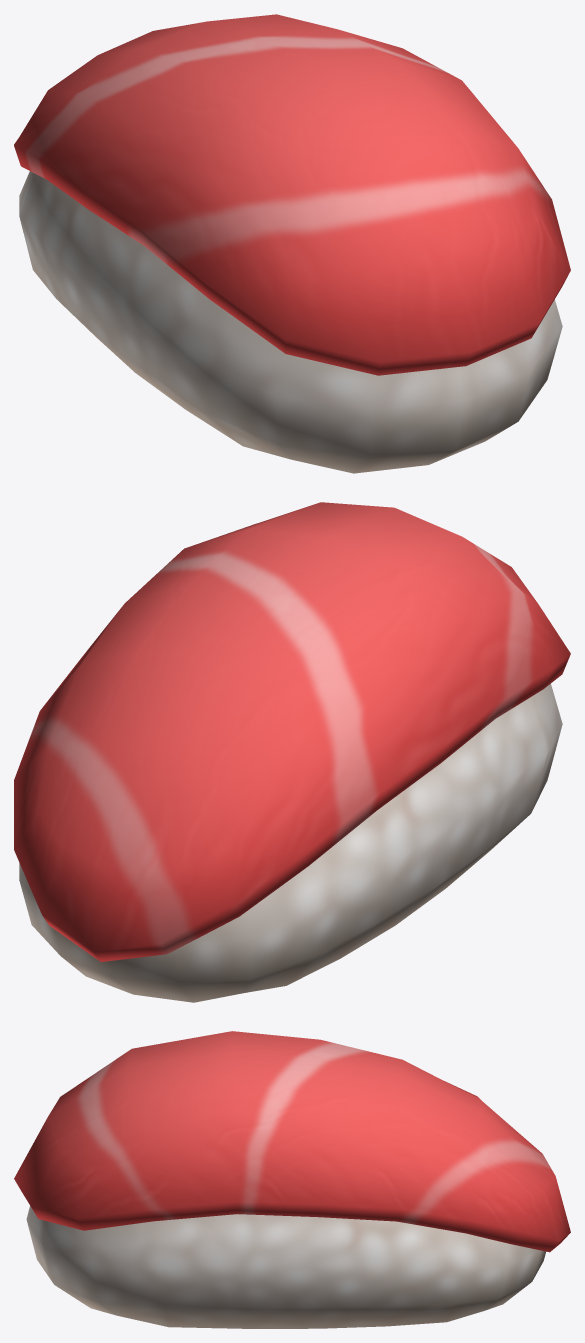
Rendered from Sushi.fbx.
The picture shows the model from 3 angles, top to bottom: view 1: azimuth 30°, elevation 25°; view 2: azimuth 150°, elevation 25°; view 3: azimuth 270°, elevation 25°; orthographic projection. The views are drawn at different scales.
Visible parts, largest first — view 1: Sushi; view 2: Sushi; view 3: Sushi.
Boxes of the visible parts, x1,y1,x2,y2 form: Sushi: [14, 14, 570, 473]; Sushi: [14, 502, 570, 1002]; Sushi: [14, 1031, 570, 1328].
Bounding box in the file's own units: 73.59 × 62.8 × 131.
